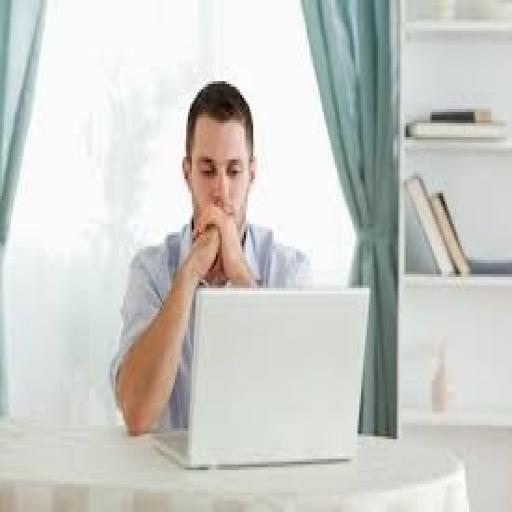using_laptop: (149, 283, 370, 470)
